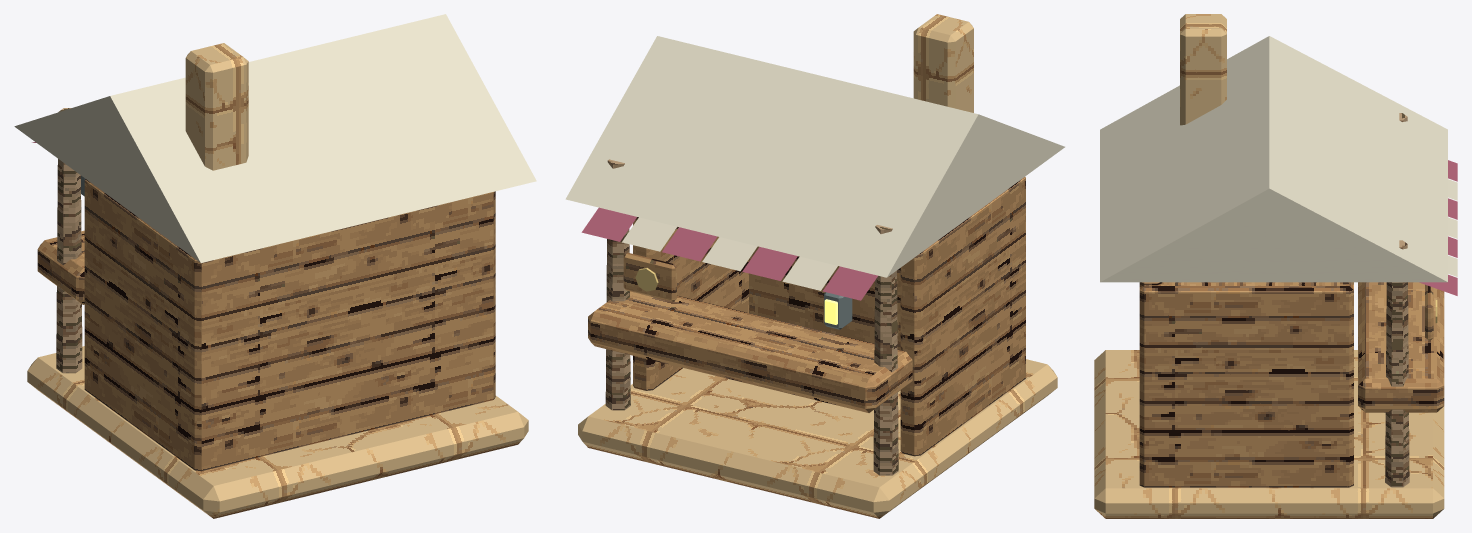
File: loja_mascate.glb
3 renders of one model, left to right at view 1: azimuth 30°, elevation 25°; view 2: azimuth 150°, elevation 25°; view 3: azimuth 270°, elevation 25°, orthographic. The views are drawn at different scales.
Parts seen in each view (by area): view 1: deserto_loja_mascate; view 2: deserto_loja_mascate; view 3: deserto_loja_mascate.
Boxes of the visible parts, x1,y1,x2,y2 form: deserto_loja_mascate: [14, 14, 536, 518]; deserto_loja_mascate: [565, 14, 1064, 518]; deserto_loja_mascate: [1094, 14, 1457, 518].
Size of the model in its own units: 1.92 by 2.26 by 1.93.
8 materials, 3 textured.
